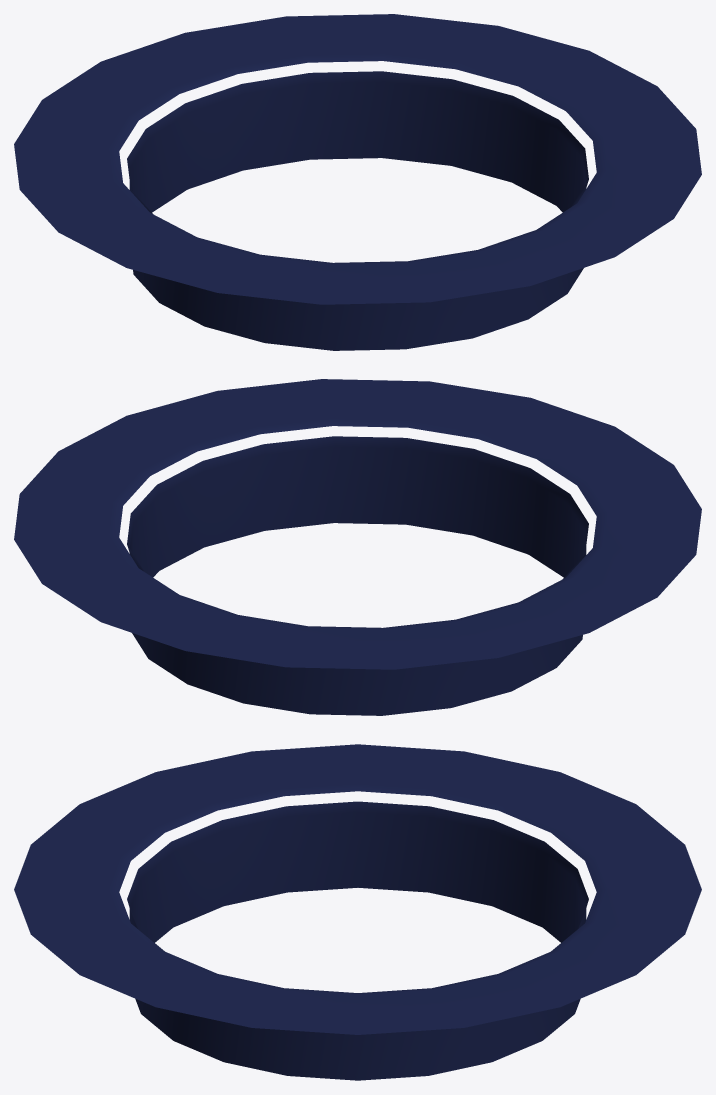
Rendered from background_4.fbx.
The picture shows the model from 3 angles, top to bottom: view 1: azimuth 30°, elevation 25°; view 2: azimuth 150°, elevation 25°; view 3: azimuth 270°, elevation 25°; orthographic projection.
Parts seen in each view (by area): view 1: background_4; view 2: background_4; view 3: background_4.
Part boxes in pixels (x1,y1,x2,y2): background_4: (14, 14, 701, 350); background_4: (14, 379, 701, 715); background_4: (14, 744, 701, 1080).
Size of the model in its own units: 28.09 by 4.26 by 28.09.
